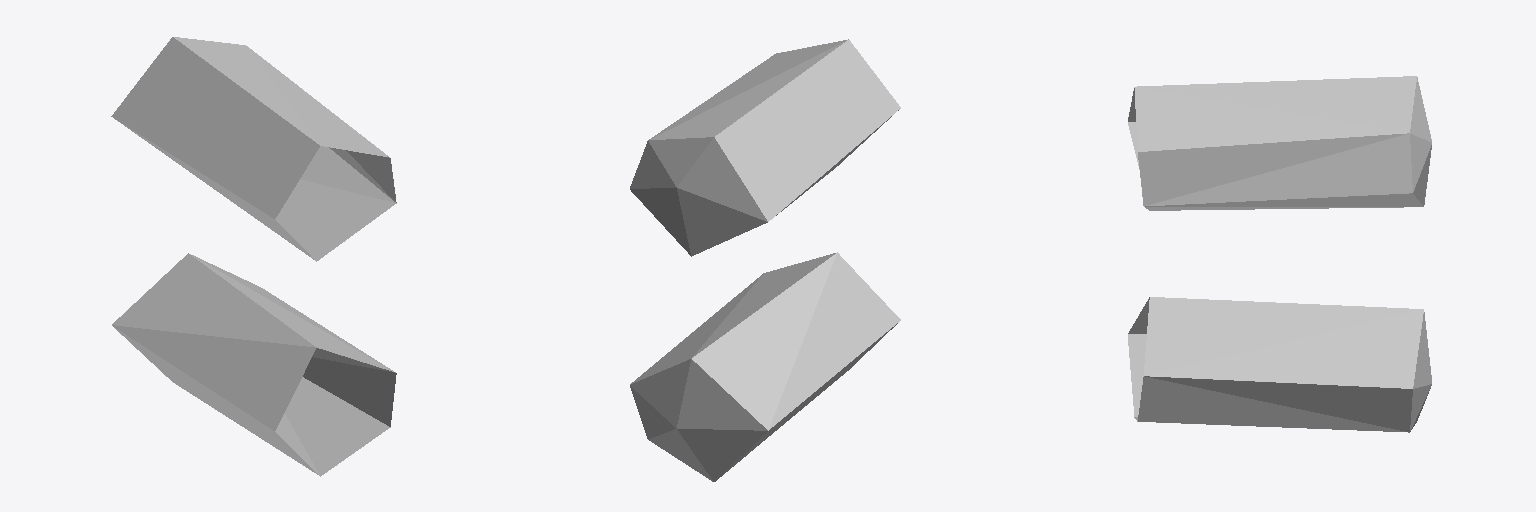
The model's file is 오리지널 하의2.obj.
The picture shows the model from 3 angles: view 1: azimuth 30°, elevation 25°; view 2: azimuth 150°, elevation 25°; view 3: azimuth 270°, elevation 25°; orthographic projection.
Visible parts, largest first — view 1: rg_downbody_002_2; view 2: rg_downbody_002_2; view 3: rg_downbody_002_2.
Boxes of the visible parts, box(x1,y1,x2,y2) form: rg_downbody_002_2: box(111, 37, 396, 476); rg_downbody_002_2: box(630, 39, 900, 481); rg_downbody_002_2: box(1128, 76, 1431, 432).
Bounding box in the file's own units: 16.68 × 37.98 × 30.37.